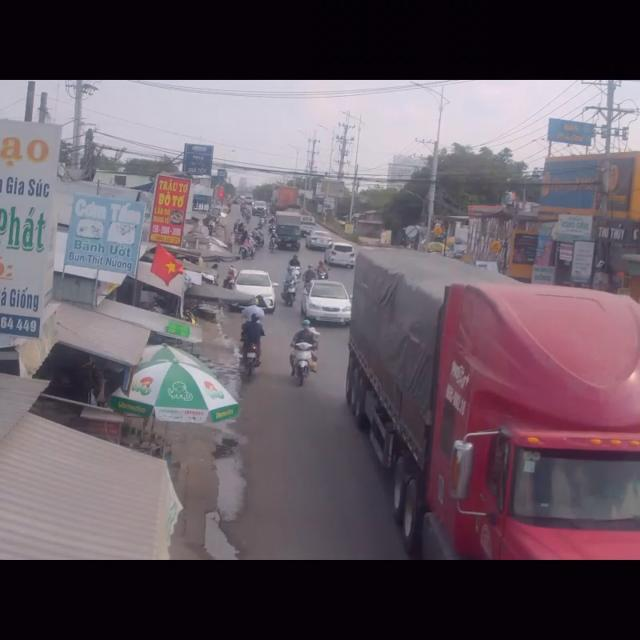car: (228, 269, 273, 317), (304, 283, 350, 320)
motorbike: (238, 308, 264, 382), (288, 322, 316, 388)
truck: (351, 243, 640, 561)
